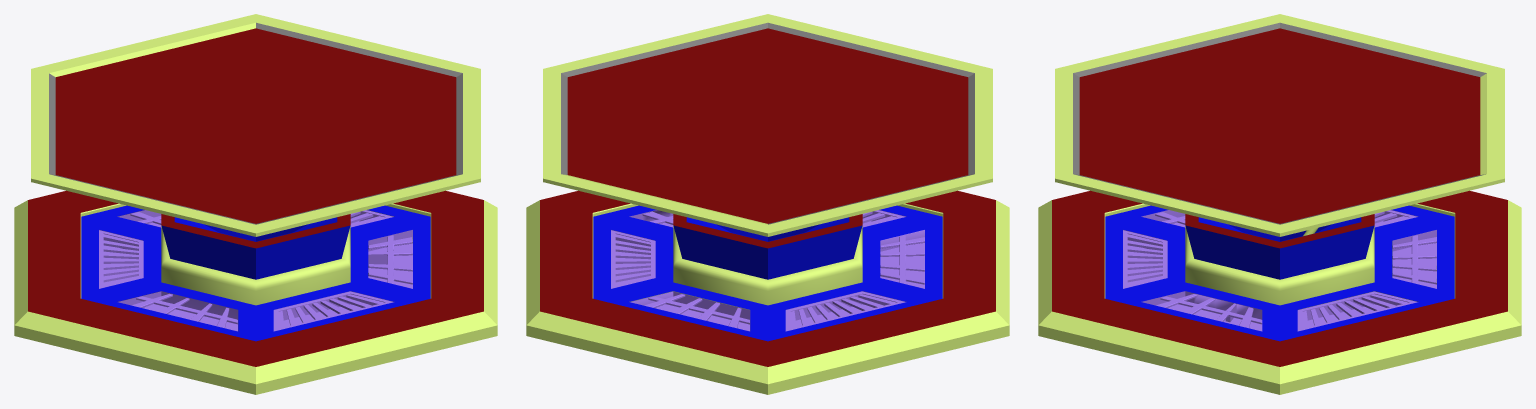
Rendered from Table.fbx.
3 renders of one model, left to right at view 1: azimuth 30°, elevation 25°; view 2: azimuth 150°, elevation 25°; view 3: azimuth 270°, elevation 25°, orthographic.
Parts seen in each view (by area): view 1: Object006; view 2: Object006; view 3: Object006.
Boxes of the visible parts, x1,y1,x2,y2 form: Object006: (14,14,497,394); Object006: (526,14,1009,394); Object006: (1038,14,1521,394).
Bounding box in the file's own units: 123 × 37.42 × 107.
